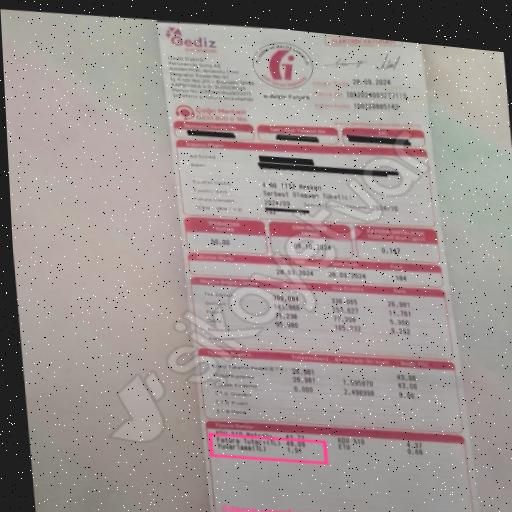electricity-bill: (158, 20, 478, 512)
